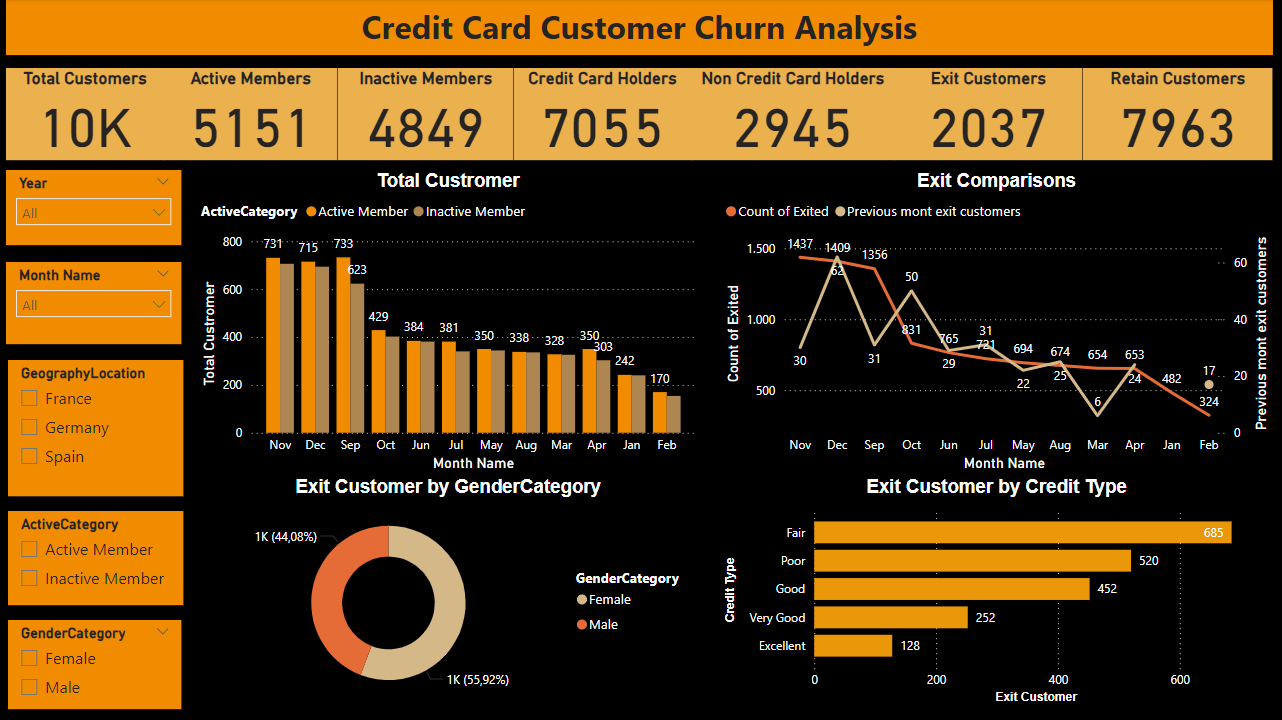

This screenshot's page, from the dashboard's own definition file:
{"tool":"powerbi","page":{"name":"Page 1","canvas":[1280,720],"ordinal":0},"visuals":[{"type":"textbox","box":[7,0,1263.7,55.8],"z":0},{"type":"card","title":"Total Customers","fields":{"Values":["Active customers.Total Custromer"]},"box":[7,68.5,158,91.8],"z":1000},{"type":"card","title":"Active Members","fields":{"Values":["Active customers.Active Members"]},"box":[164.9,68.5,173.1,91.8],"z":2000},{"type":"card","title":"Inactive Members","fields":{"Values":["Active customers.Inactive Members"]},"box":[338,68.5,175.4,91.8],"z":3000},{"type":"card","title":"Credit Card Holders","fields":{"Values":["Active customers.Credit Card Holder"]},"box":[513.4,68.5,176.6,91.8],"z":4000},{"type":"card","title":"Non Credit Card Holders","fields":{"Values":["Active customers.Non Credit Card holders"]},"box":[689.9,68.5,203.3,91.8],"z":5000},{"type":"card","title":"Exit Customers","fields":{"Values":["Active customers.Exit Customer"]},"box":[893.2,68.5,188.2,91.8],"z":6000},{"type":"card","title":"Retain Customers","fields":{"Values":["Active customers.Retain Customers"]},"box":[1081.4,68.5,189.3,91.8],"z":7000},{"type":"slicer","fields":{"Values":["Date Master.Year"]},"box":[7,170.7,175.4,75.5],"z":8000},{"type":"slicer","fields":{"Values":["Date Master.Month Name"]},"box":[7,262.5,175.4,82.5],"z":9000},{"type":"slicer","fields":{"Values":["Active customers.ActiveCategory"]},"box":[9.3,511.1,175.4,94.1],"z":10000},{"type":"slicer","fields":{"Values":["Gender.GenderCategory"]},"box":[9.3,619.1,173.1,89.4],"z":11000},{"type":"clusteredColumnChart","title":"Total Custromer ","fields":{"Category":["Date Master.Year","Date Master.Month Name"],"Y":["Active customers.Total Custromer"],"Series":["Active customers.ActiveCategory"]},"box":[196.3,170.7,502.9,305.5],"z":12000},{"type":"slicer","fields":{"Values":["Geography.GeographyLocation"]},"box":[9.3,360.1,175.4,135.9],"z":13000},{"type":"lineChart","title":"Exit Comparisons","fields":{"Y":["CountNonNull(Bank_Churn.Exited)"],"Y2":["Active customers.Previous mont exit customers"],"Category":["Date Master.Month Name"]},"box":[719,170.7,551.7,305.5],"z":14000},{"type":"donutChart","fields":{"Y":["Active customers.Exit Customer"],"Category":["Gender.GenderCategory"]},"box":[196.3,476.2,502.9,232.3],"z":15000},{"type":"clusteredBarChart","fields":{"Y":["Active customers.Exit Customer"],"Category":["Bank_Churn.Credit Type"]},"box":[719,476.2,551.7,232.3],"z":16000}]}

Visuals, with their boxes in screenshot pixels (x1, y1, x2, y2), scaled from the page's 1280x720 canvas onto the 1282x720 screenshot:
textbox: (left=7, top=0, right=1273, bottom=56)
"Total Customers" card: (left=7, top=68, right=165, bottom=160)
"Active Members" card: (left=165, top=68, right=339, bottom=160)
"Inactive Members" card: (left=339, top=68, right=514, bottom=160)
"Credit Card Holders" card: (left=514, top=68, right=691, bottom=160)
"Non Credit Card Holders" card: (left=691, top=68, right=895, bottom=160)
"Exit Customers" card: (left=895, top=68, right=1083, bottom=160)
"Retain Customers" card: (left=1083, top=68, right=1273, bottom=160)
slicer - Date Master.Year: (left=7, top=171, right=183, bottom=246)
slicer - Date Master.Month Name: (left=7, top=262, right=183, bottom=345)
slicer - Active customers.ActiveCategory: (left=9, top=511, right=185, bottom=605)
slicer - Gender.GenderCategory: (left=9, top=619, right=183, bottom=708)
"Total Custromer " clusteredColumnChart: (left=197, top=171, right=700, bottom=476)
slicer - Geography.GeographyLocation: (left=9, top=360, right=185, bottom=496)
"Exit Comparisons" lineChart: (left=720, top=171, right=1273, bottom=476)
donutChart - Active customers.Exit Customer x Gender.GenderCategory: (left=197, top=476, right=700, bottom=708)
clusteredBarChart - Active customers.Exit Customer x Bank_Churn.Credit Type: (left=720, top=476, right=1273, bottom=708)
